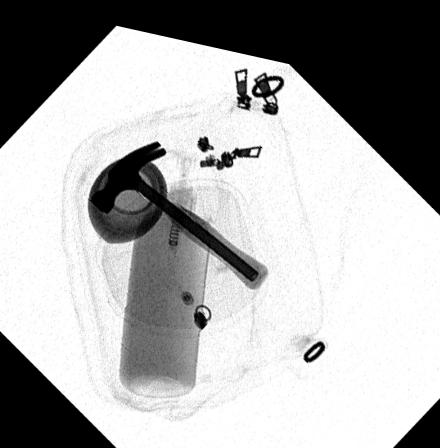Hammer: (89, 133, 270, 278)
